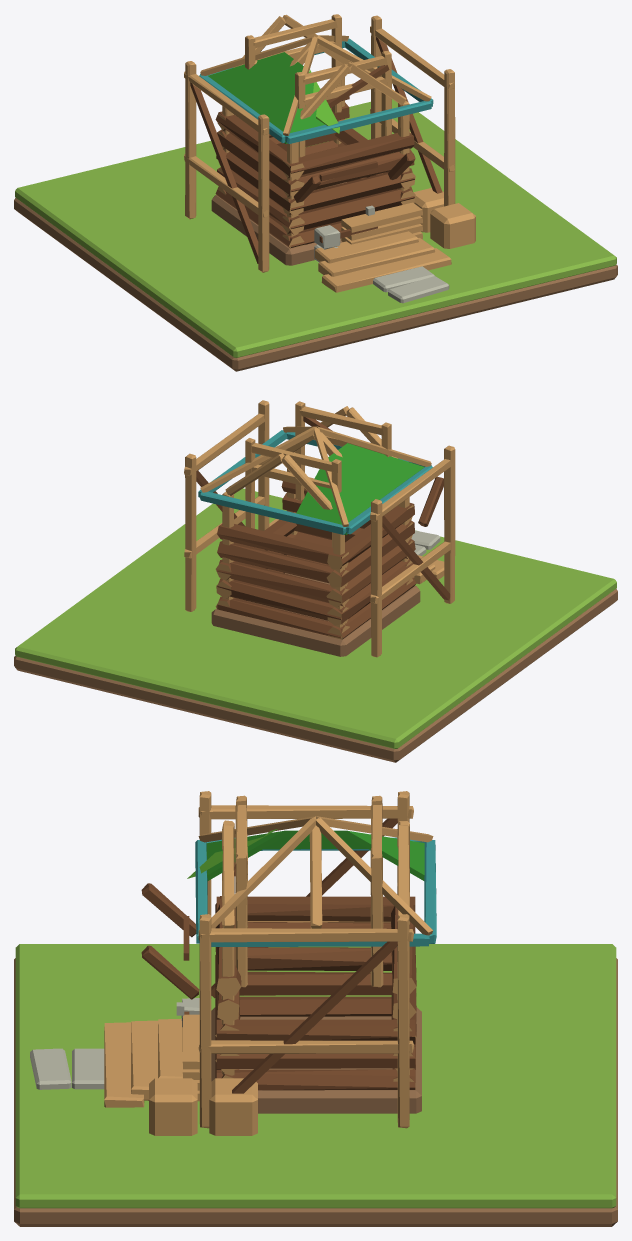
Rendered from town_hall_l01_construction_LOD1.glb.
3 views of the same model, one above another, from view 1: azimuth 30°, elevation 25°; view 2: azimuth 150°, elevation 25°; view 3: azimuth 270°, elevation 25° (orthographic). The views are drawn at different scales.
Visible parts, largest first — view 1: town_hall_l01_construction_foundation.001, town_hall_l01_construction_grass_tile.001, town_hall_l01_construction_earth_tile.001, town_hall_l01_construction_path_stone.005, town_hall_l01_construction_path_stone.004; view 2: town_hall_l01_construction_grass_tile.001, town_hall_l01_construction_foundation.001, town_hall_l01_construction_earth_tile.001; view 3: town_hall_l01_construction_grass_tile.001, town_hall_l01_construction_foundation.001, town_hall_l01_construction_earth_tile.001, town_hall_l01_construction_path_stone.005, town_hall_l01_construction_path_stone.004.
Part boxes in pixels (x1,y1,x2,y2): town_hall_l01_construction_foundation.001: (184, 14, 475, 292); town_hall_l01_construction_grass_tile.001: (15, 99, 616, 357); town_hall_l01_construction_earth_tile.001: (14, 198, 617, 371); town_hall_l01_construction_path_stone.005: (388, 276, 449, 303); town_hall_l01_construction_path_stone.004: (373, 266, 434, 292); town_hall_l01_construction_grass_tile.001: (15, 488, 616, 748); town_hall_l01_construction_foundation.001: (184, 400, 455, 657); town_hall_l01_construction_earth_tile.001: (14, 589, 617, 762); town_hall_l01_construction_grass_tile.001: (15, 944, 616, 1208); town_hall_l01_construction_foundation.001: (104, 791, 436, 1135); town_hall_l01_construction_earth_tile.001: (14, 958, 617, 1226); town_hall_l01_construction_path_stone.005: (30, 1048, 71, 1089); town_hall_l01_construction_path_stone.004: (72, 1048, 104, 1089).
Size of the model in its own units: 3.6 by 1.87 by 3.6.
